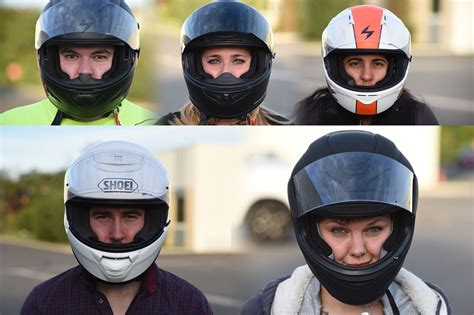com_capacete: (287, 129, 419, 307), (62, 140, 171, 287), (34, 1, 141, 122), (179, 1, 274, 120), (320, 4, 413, 118)
